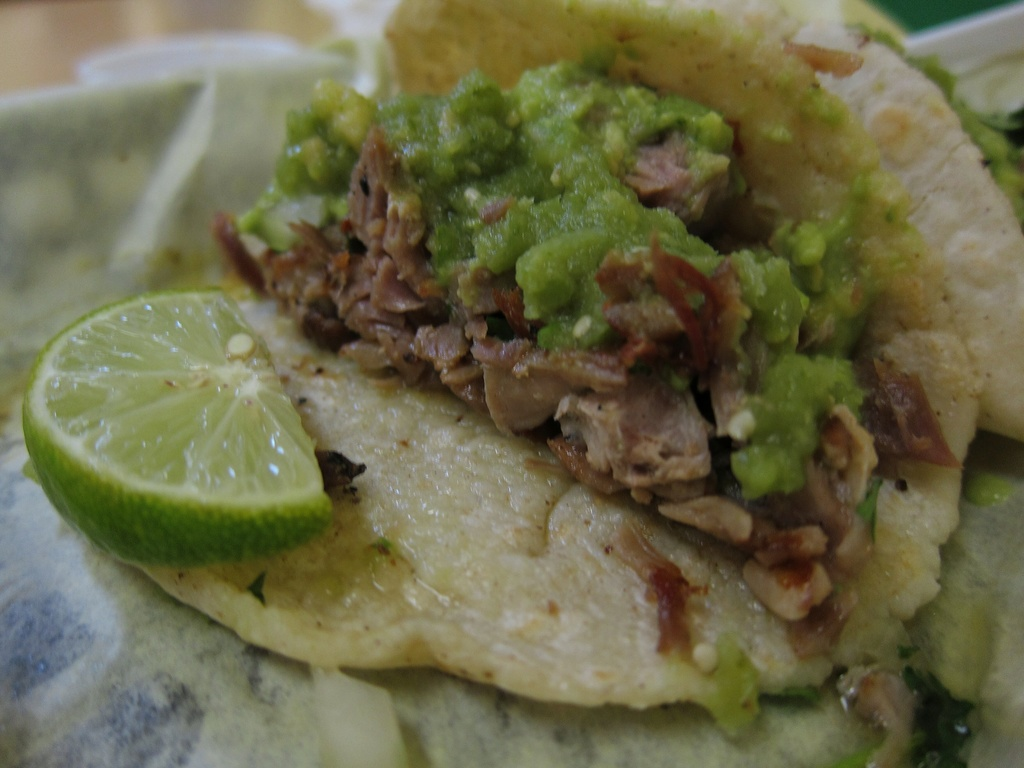taco: (66, 8, 1024, 762)
